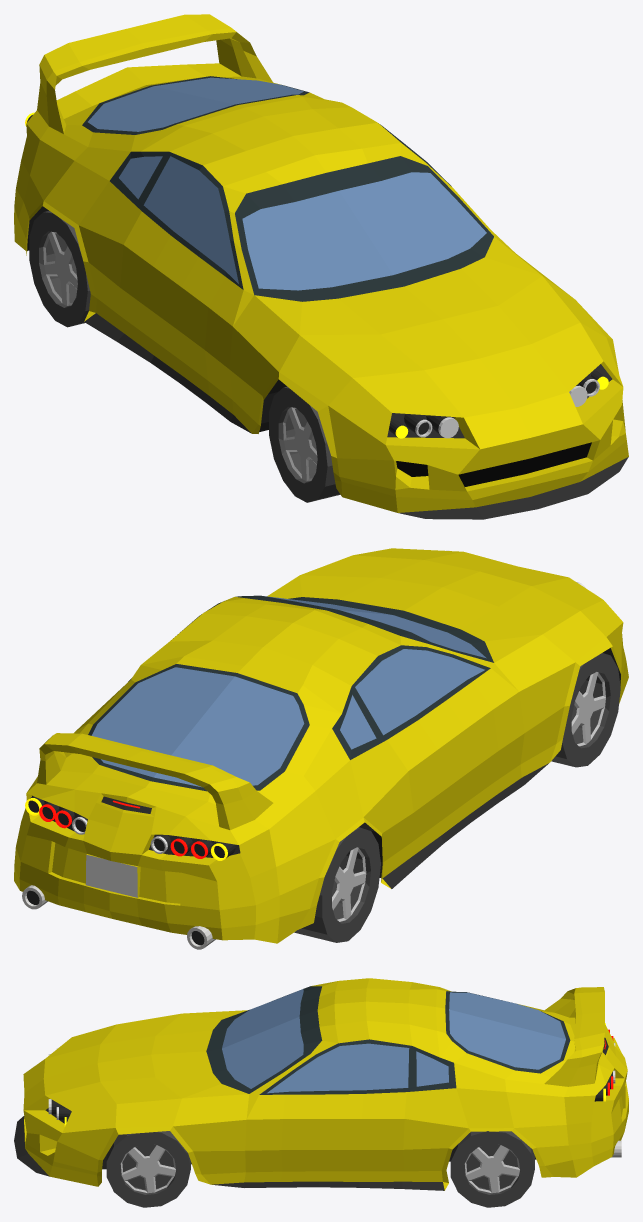
File: toyota.fbx
3 views of the same model, one above another, from view 1: azimuth 30°, elevation 25°; view 2: azimuth 150°, elevation 25°; view 3: azimuth 270°, elevation 25° (orthographic). The views are drawn at different scales.
Visible parts, largest first — view 1: car_toyota, wheel_fr_toyota, wheel_br_toyota; view 2: car_toyota, wheel_br_toyota, wheel_fr_toyota; view 3: car_toyota, wheel_bl_toyota, wheel_fl_toyota.
Boxes of the visible parts, x1,y1,x2,y2 form: car_toyota: (14, 14, 628, 519); wheel_fr_toyota: (269, 386, 340, 502); wheel_br_toyota: (29, 211, 90, 327); car_toyota: (14, 548, 628, 949); wheel_br_toyota: (294, 827, 380, 942); wheel_fr_toyota: (551, 653, 620, 767); car_toyota: (14, 978, 628, 1190); wheel_bl_toyota: (450, 1131, 534, 1207); wheel_fl_toyota: (106, 1131, 190, 1207).
Size of the model in its own units: 209 by 140 by 504.
